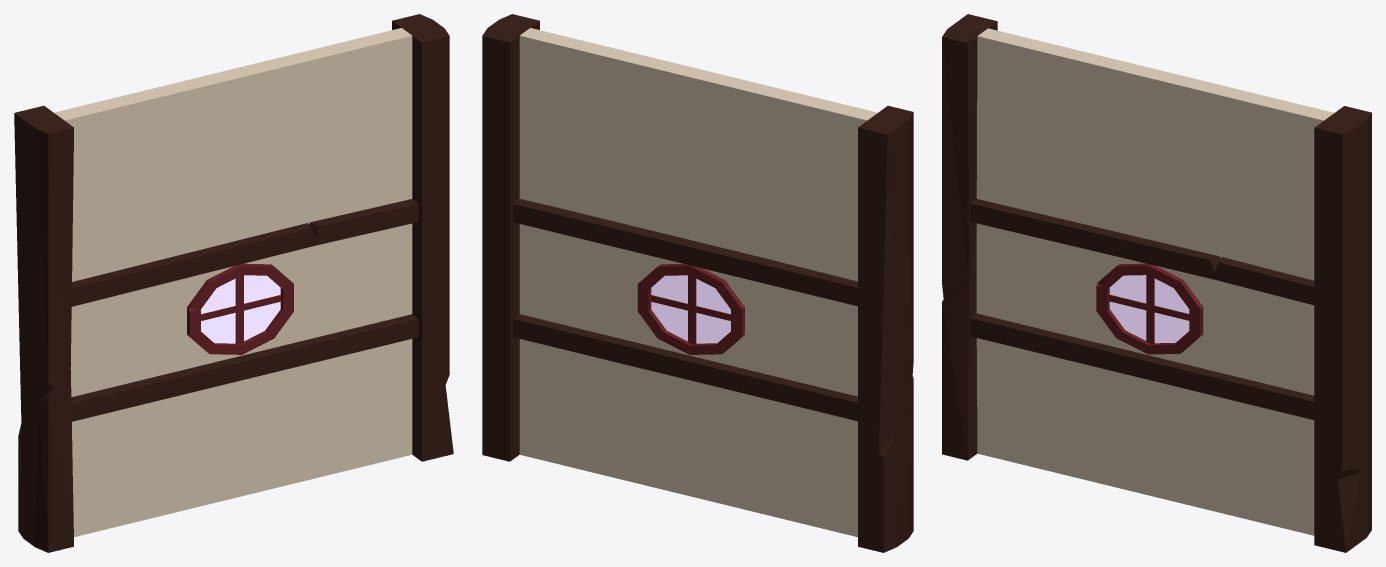
The model's file is BuildingWall_2_1 Asia.fbx.
3 views of the same model, side by side, from view 1: azimuth 30°, elevation 25°; view 2: azimuth 150°, elevation 25°; view 3: azimuth 330°, elevation 25° (orthographic).
Visible parts, largest first — view 1: BuildingWall_2_1; view 2: BuildingWall_2_1; view 3: BuildingWall_2_1.
Part boxes in pixels (left/top/right/bottom): BuildingWall_2_1: left=14, top=14, right=453, bottom=552; BuildingWall_2_1: left=482, top=14, right=913, bottom=552; BuildingWall_2_1: left=942, top=14, right=1371, bottom=552.
Bounding box in the file's own units: 2 × 1.96 × 0.254.
